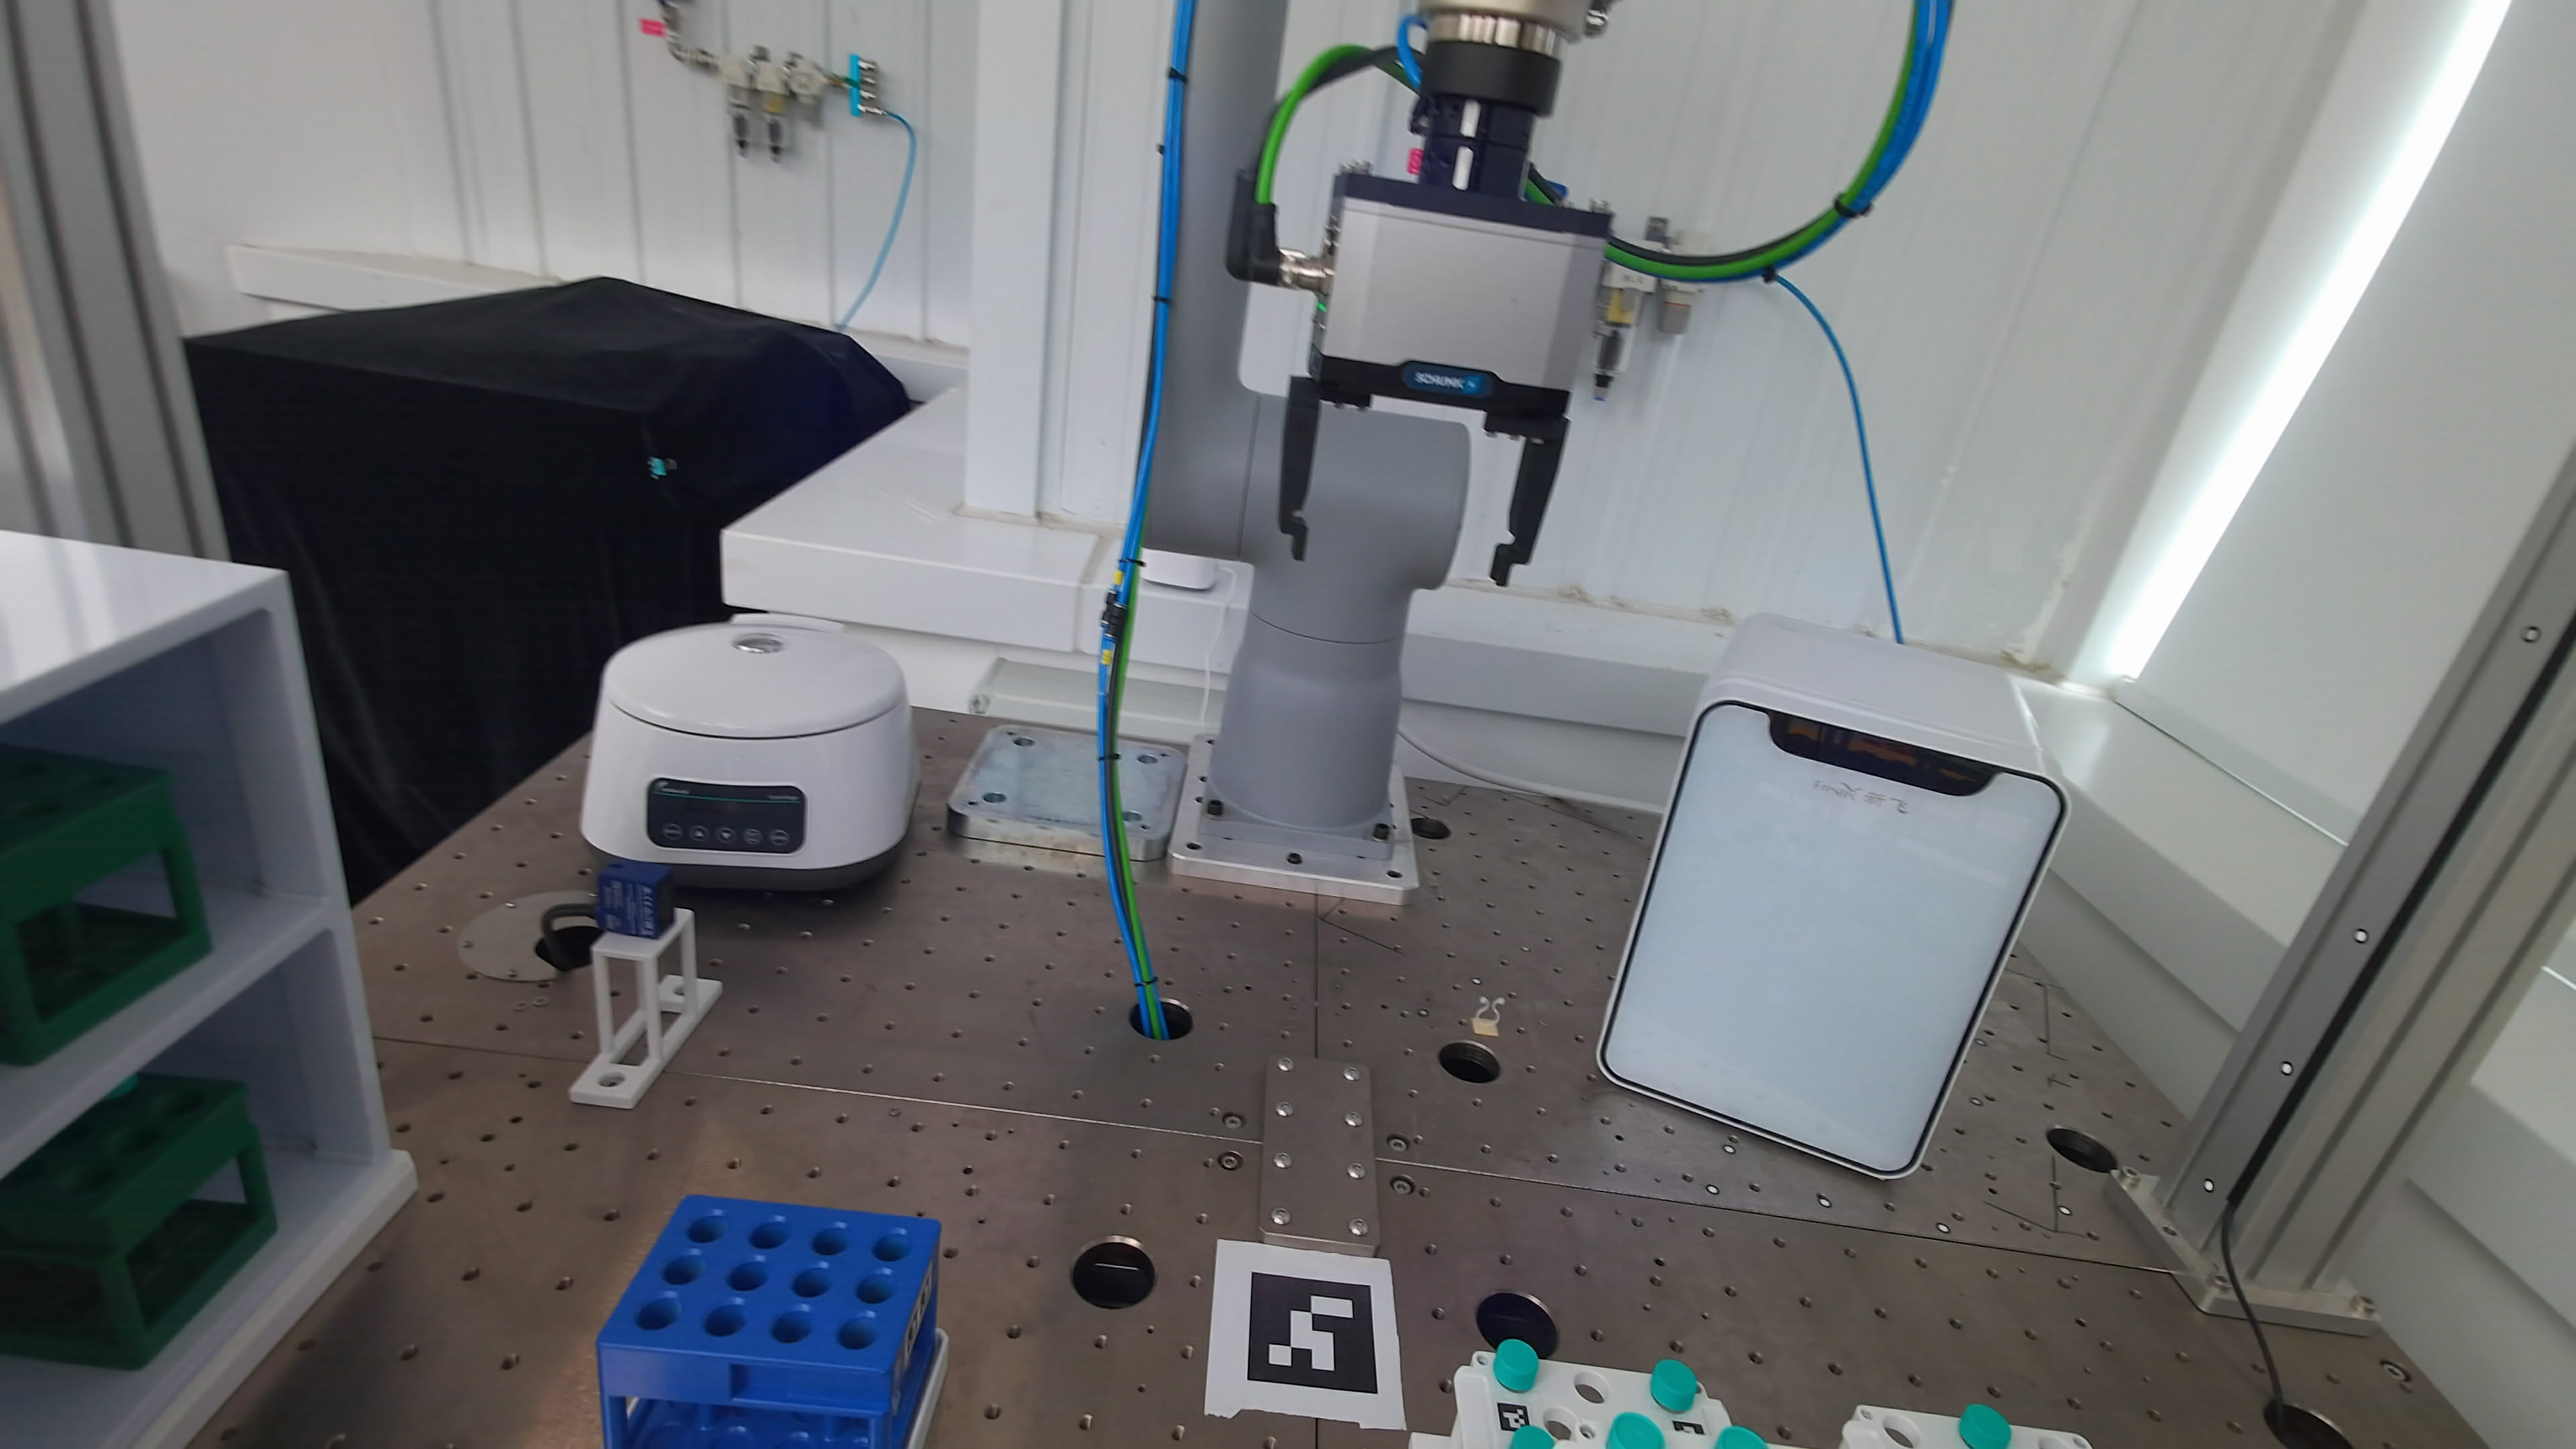10ML_centrifuge_tube: (1649, 1359, 1698, 1414), (1957, 1403, 2012, 1449), (1493, 1339, 1539, 1392)
10ML_sorting_tube_rack: (598, 1196, 941, 1447)
5ML_centrifuge_tube: (1606, 1412, 1667, 1449), (1509, 1424, 1555, 1449)
5ML_sorting_tube_rack: (0, 1074, 278, 1369), (0, 743, 211, 1065)
centrifuge_close: (580, 619, 918, 890)
dispensing_tube_rack: (1410, 1352, 1732, 1449)
refrigerator_close: (1601, 616, 2068, 1177)
tube_rack_storage_cabinet: (0, 531, 416, 1444)
